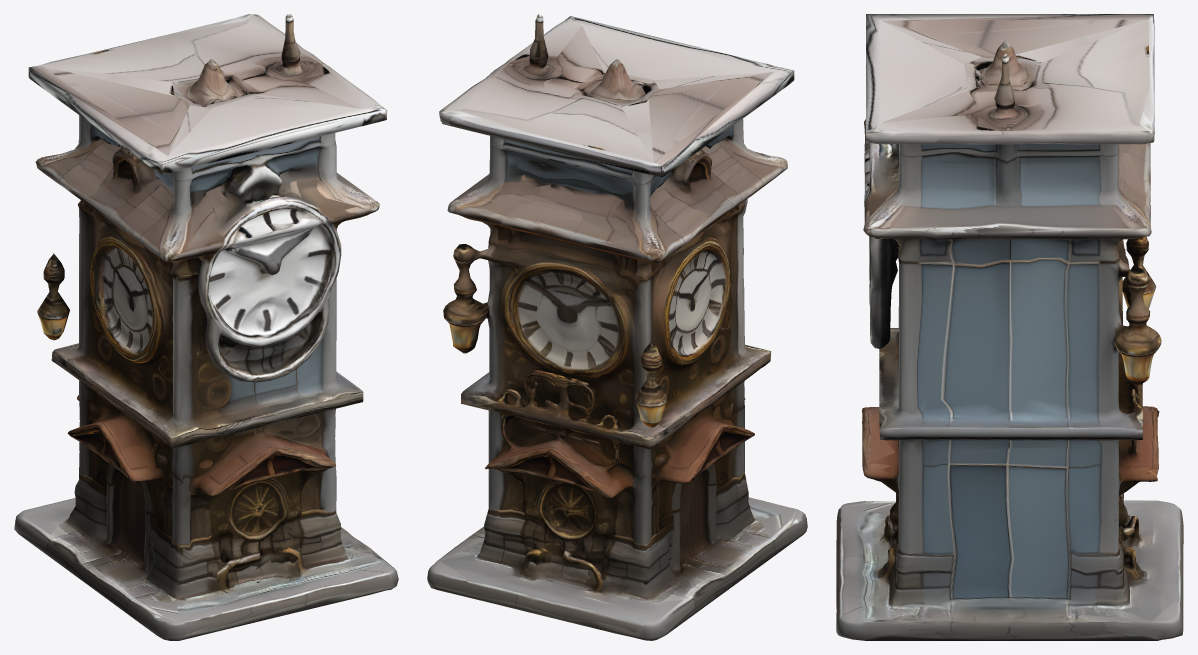
File: Clock.fbx
3 renders of one model, left to right at view 1: azimuth 30°, elevation 25°; view 2: azimuth 150°, elevation 25°; view 3: azimuth 270°, elevation 25°, orthographic. The views are drawn at different scales.
Parts seen in each view (by area): view 1: model; view 2: model; view 3: model.
Part boxes in pixels (box(x1,y1,x2,y2)): model: box(14, 14, 398, 640); model: box(427, 14, 807, 640); model: box(836, 14, 1183, 640).
Bounding box in the file's own units: 82.96 × 175 × 96.72.
